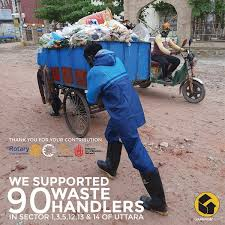auto rickshaw: (140, 36, 207, 104)
garbagevan: (36, 42, 152, 138)
